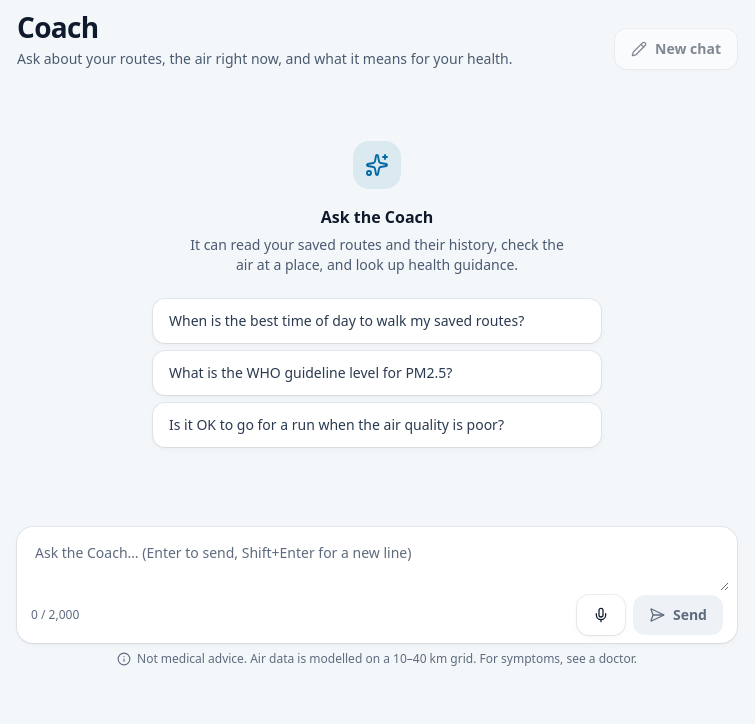
Test: Coach voice input › start shows the listening state; clicking again stops it
What coordinates should you click on to do the following:
click the button named "Start voice input"
I would click on:
 (601, 615)
Its box is [577,595,625,635].
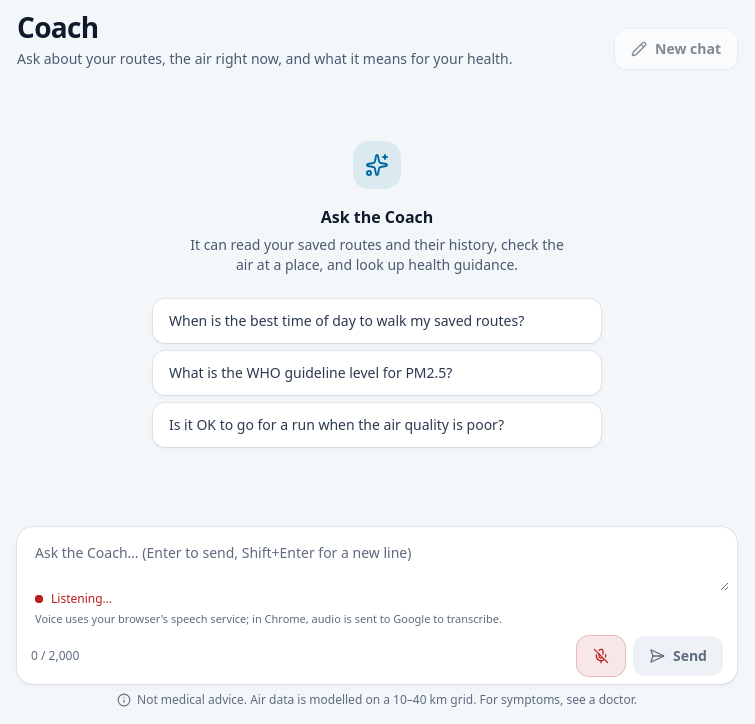
expect the element with test id "voice-listening" shows "Listening…": met, box [51,590,112,607]
expect the element with test id "voice-listening" shows "audio is sent to Google": met, box [35,611,502,626]
What coordinates should you click on to do the following:
click the button named "Stop voice input"
I would click on:
 (601, 656)
Its box is [577,636,625,676].
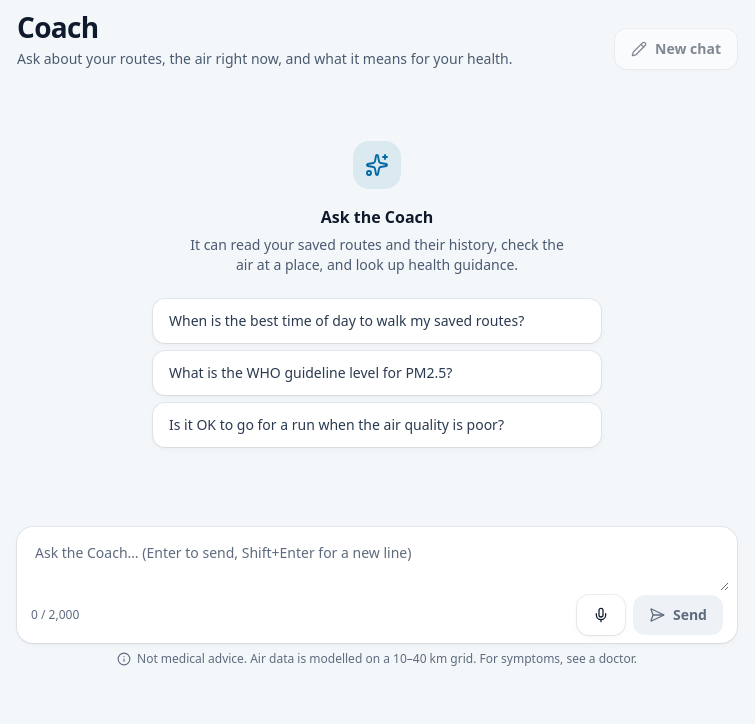
expect the element with test id "voice-listening" is gone: met
